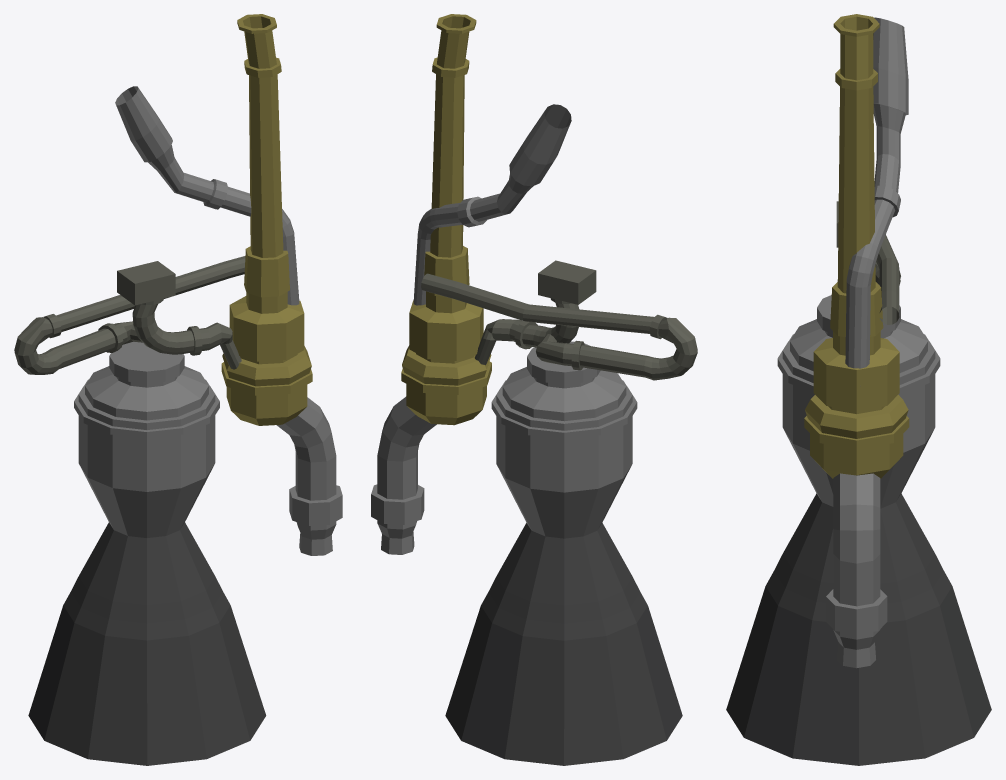
Rendered from merlin1D.glb.
The picture shows the model from 3 angles, left to right: view 1: azimuth 30°, elevation 25°; view 2: azimuth 150°, elevation 25°; view 3: azimuth 270°, elevation 25°; orthographic projection. The views are drawn at different scales.
Visible parts, largest first — view 1: Cylinder.010, Cylinder.001, Cylinder.008, Cylinder, Cylinder.002, Cylinder.003, Cube.001; view 2: Cylinder.010, Cylinder.001, Cylinder.008, Cylinder.002, Cylinder, Cylinder.003, Cube.001; view 3: Cylinder.010, Cylinder.001, Cylinder, Cylinder.002, Cylinder.008.
Part boxes in pixels (x1,y1,x2,y2): Cylinder.010: (28, 342, 266, 765); Cylinder.001: (221, 14, 312, 425); Cylinder.008: (14, 256, 245, 374); Cylinder: (276, 397, 342, 555); Cylinder.002: (115, 86, 299, 305); Cylinder.003: (132, 298, 241, 369); Cube.001: (117, 261, 175, 305); Cylinder.010: (445, 341, 682, 765); Cylinder.001: (401, 14, 491, 425); Cylinder.008: (421, 273, 697, 380); Cylinder.002: (413, 104, 571, 305); Cylinder: (371, 396, 436, 554); Cylinder.003: (474, 298, 578, 365); Cube.001: (538, 260, 596, 304); Cylinder.010: (726, 295, 991, 765); Cylinder.001: (804, 14, 909, 478); Cylinder: (826, 473, 887, 668); Cylinder.002: (845, 17, 908, 386); Cylinder.008: (875, 234, 900, 324).
Size of the model in its own units: 3.28 by 6.48 by 2.09.
